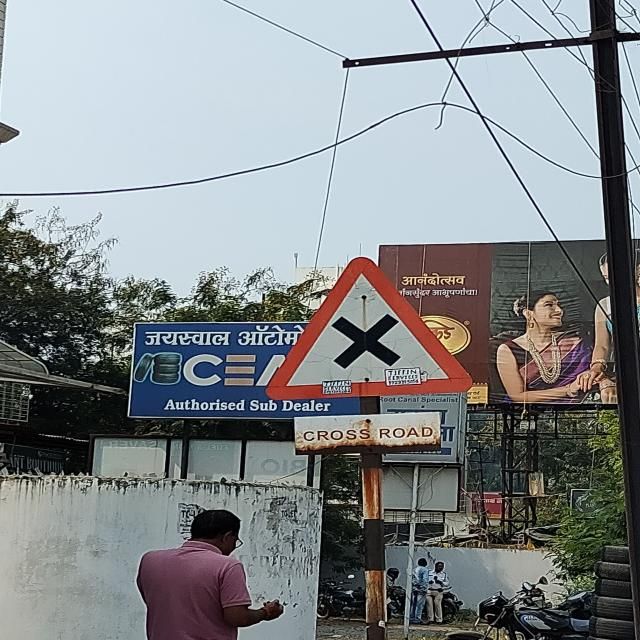cross_road: (262, 257, 473, 399)
